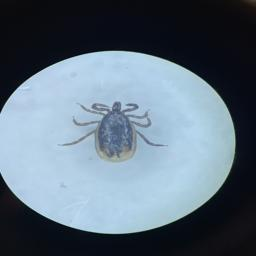Ixodes scapularis: (57, 102, 167, 161)
